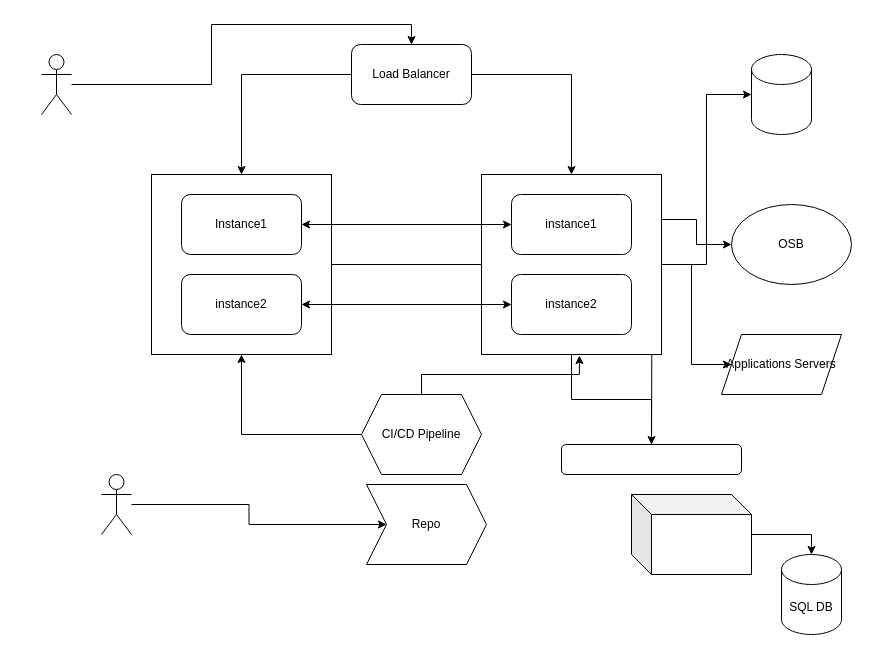
The diagram is 869 pixels wide and 652 high, and some of its shapes have lost their labels. Each missing label, with the centre of its shape:
API Consumer: point 56,84
API Developers: point 116,504
Application: point 691,534
Internal LB: point 651,459
Oracle DBs: point 781,94
